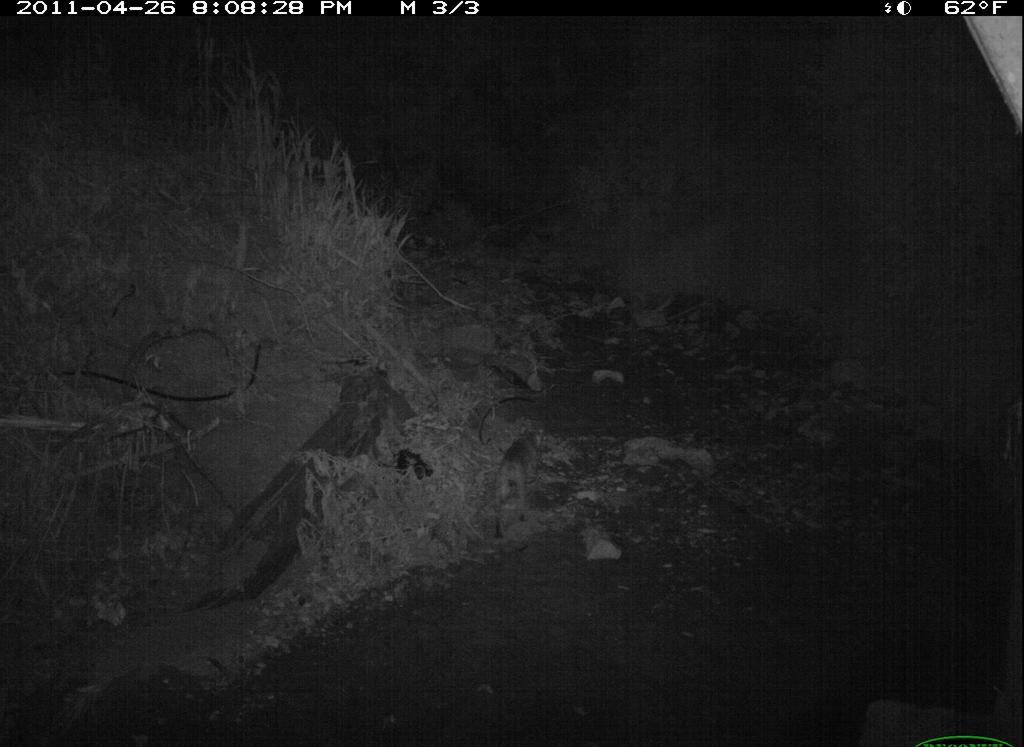bobcat: (479, 418, 575, 529)
